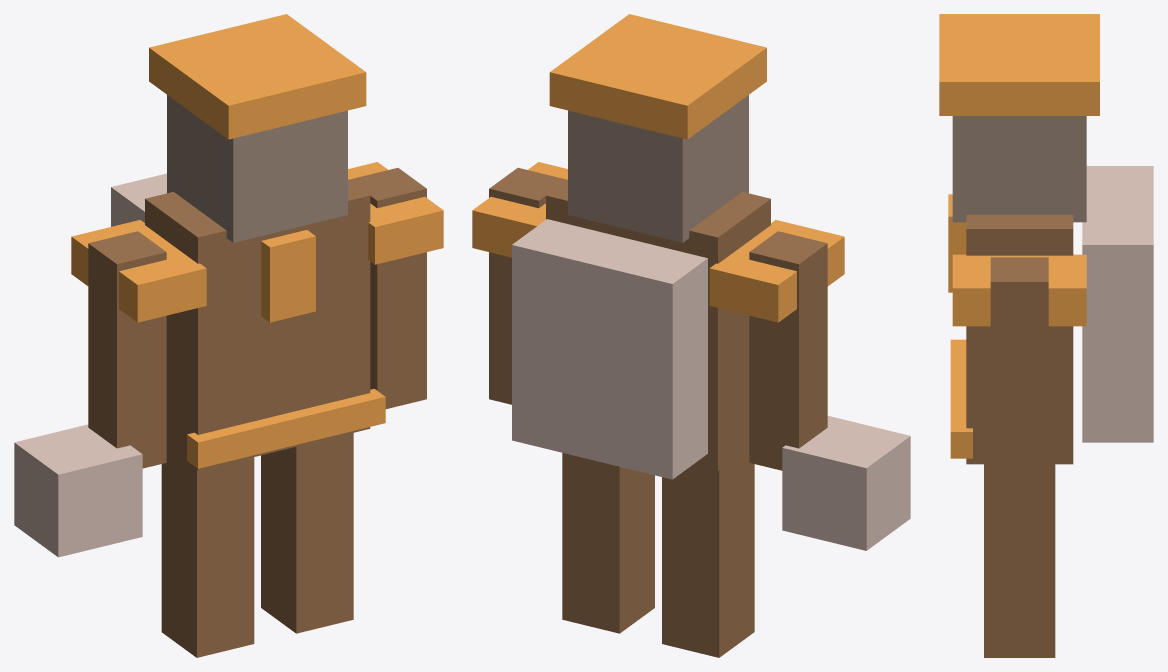
File: 17_maven_glassroot_cartographer_of_forkkeeper.glb
3 renders of one model, left to right at view 1: azimuth 30°, elevation 25°; view 2: azimuth 150°, elevation 25°; view 3: azimuth 270°, elevation 25°, orthographic.
Visible parts, largest first — view 1: Maven Glassroot, Cartographer of Forkkeeper; view 2: Maven Glassroot, Cartographer of Forkkeeper; view 3: Maven Glassroot, Cartographer of Forkkeeper.
Boxes of the visible parts, x1,y1,x2,y2 form: Maven Glassroot, Cartographer of Forkkeeper: [14, 14, 443, 657]; Maven Glassroot, Cartographer of Forkkeeper: [472, 14, 910, 657]; Maven Glassroot, Cartographer of Forkkeeper: [939, 14, 1153, 657].
Size of the model in its own units: 1.03 by 1.46 by 0.4968.
